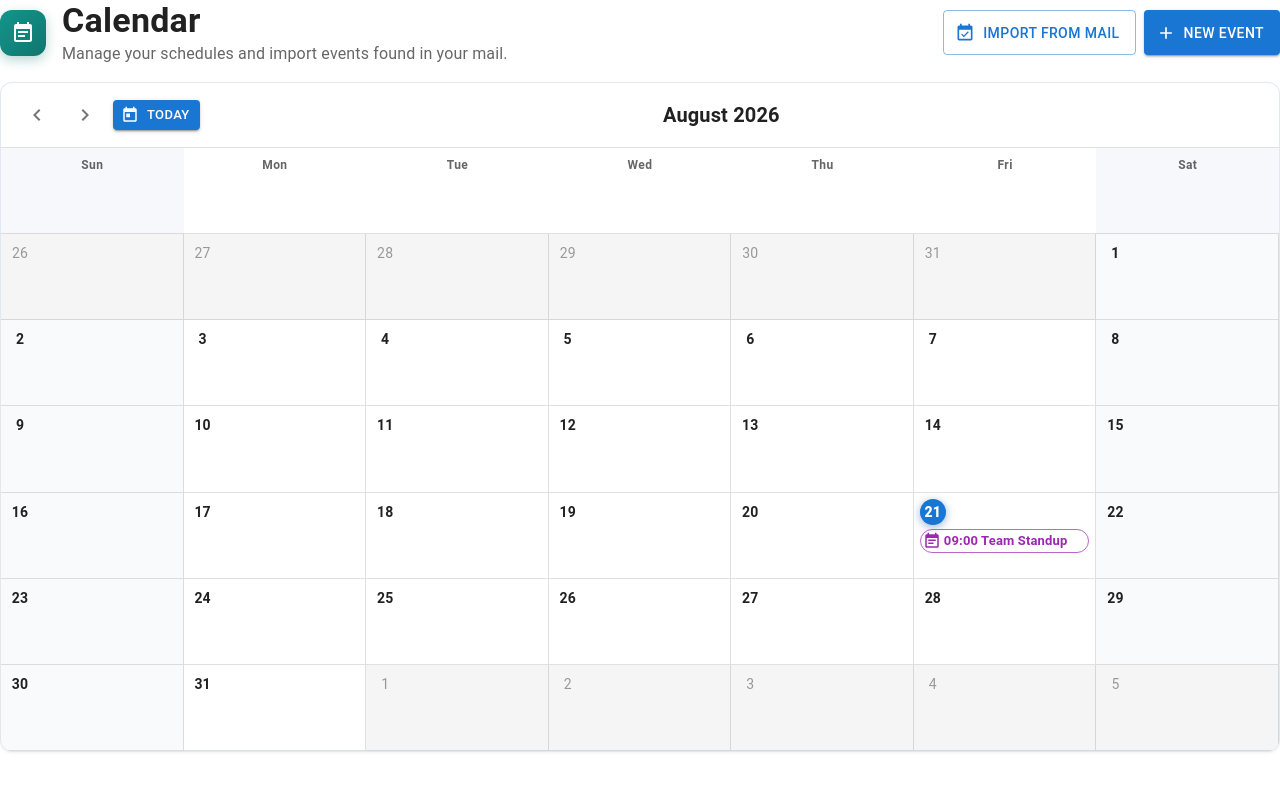
Test: CalendarPage › opens an event for editing with prefilled values
Expected: the text "09:00 Team Standup" is shown, left=944, top=533, right=1067, bottom=548
Click the button "09:00 Team Standup".
click(1005, 541)  # box left=920, top=529, right=1089, bottom=553
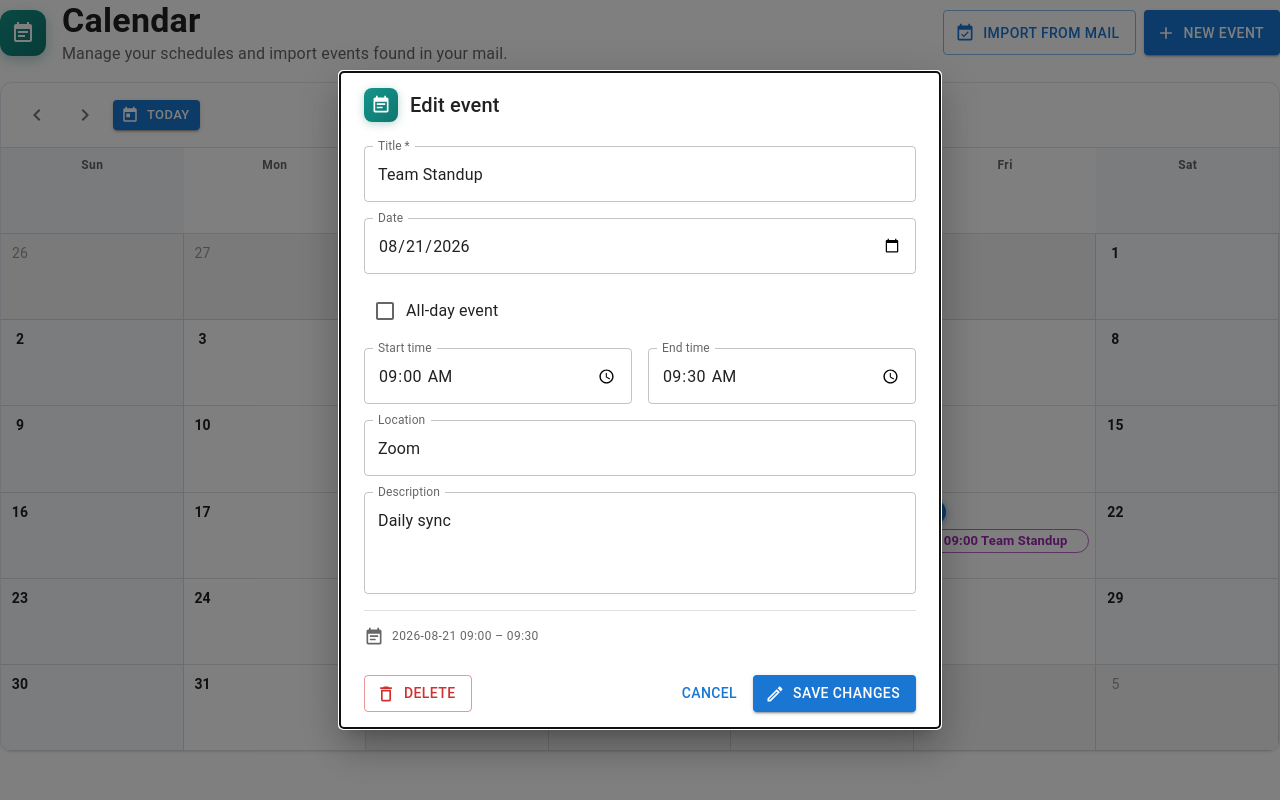
Now the field labelled "Title *" holds "Team Standup", box left=364, top=146, right=916, bottom=202
Now the heading "Edit event" is shown, box left=364, top=88, right=500, bottom=122
